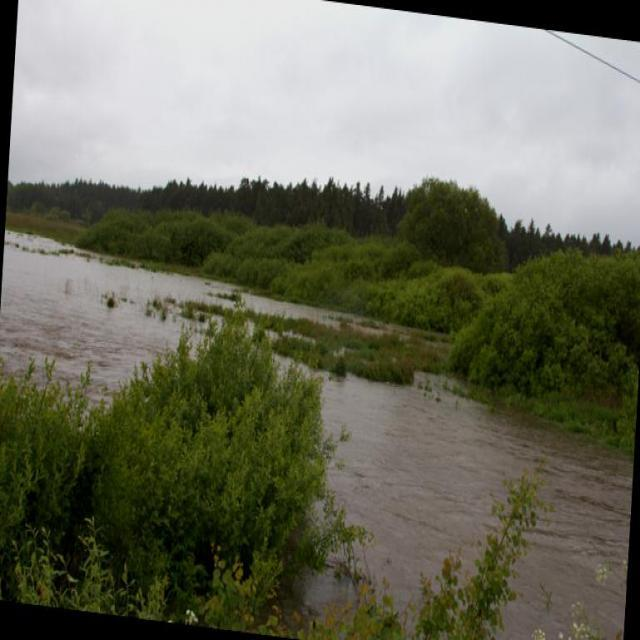flood: (0, 223, 639, 616)
